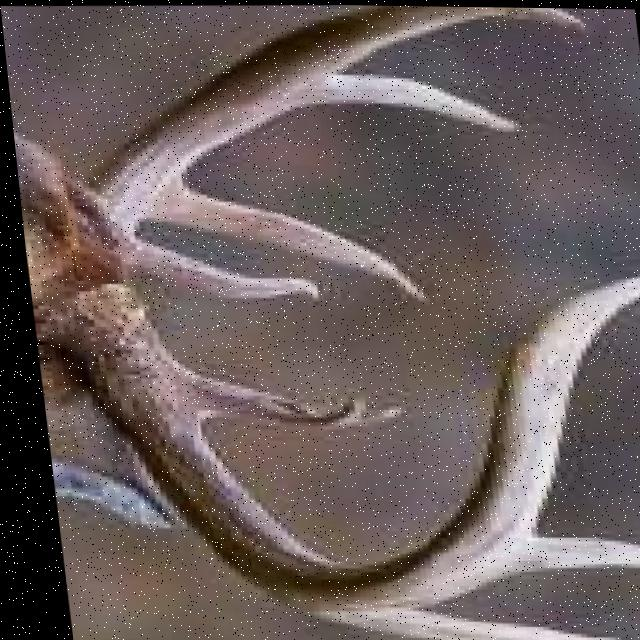L-F: (53, 4, 595, 284)
L-G1: (118, 233, 315, 308)
L-G2: (131, 179, 432, 308)
L-G3: (295, 71, 523, 136)
R-F: (25, 267, 640, 610)
R-G1: (163, 355, 361, 429)
R-G2: (287, 607, 615, 640)
R-G3: (498, 532, 640, 572)
